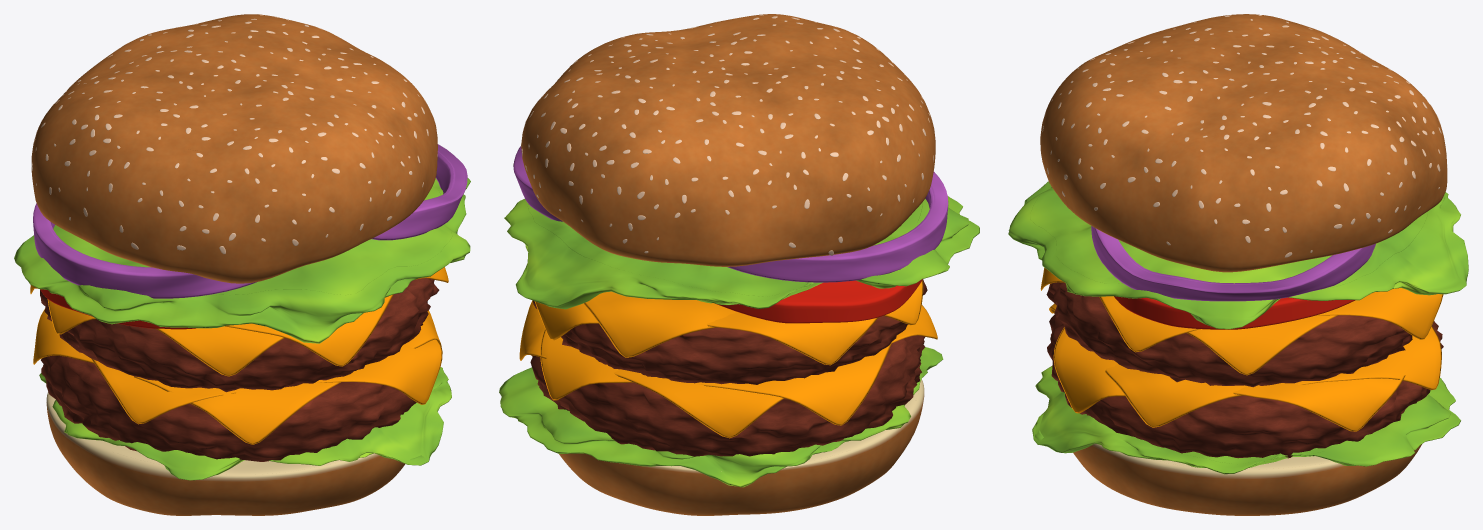
The model's file is burger.glb.
3 renders of one model, left to right at view 1: azimuth 30°, elevation 25°; view 2: azimuth 150°, elevation 25°; view 3: azimuth 270°, elevation 25°, orthographic.
Visible parts, largest first — view 1: topbun, lettuce, bottombun, patty, patty2, cheese, lettuce.001, cheese2, onion2, onion, tomato.001; view 2: topbun, lettuce, patty, bottombun, cheese, cheese2, patty2, lettuce.001, onion2, tomato.001, onion; view 3: topbun, lettuce, cheese, bottombun, patty2, patty, lettuce.001, cheese2, onion, tomato.
Part boxes in pixels (x1,y1,x2,y2): topbun: (31,14,437,283); lettuce: (14,178,470,343); bottombun: (46,392,405,515); patty: (41,355,416,461); patty2: (40,278,439,392); cheese: (33,309,442,444); lettuce.001: (39,367,451,480); cheese2: (30,267,448,376); onion2: (33,203,256,298); onion: (371,144,467,240); tomato.001: (40,289,195,329); topbun: (521,14,935,266); lettuce: (504,164,979,309); patty: (530,335,924,456); bottombun: (559,379,924,515); cheese: (519,300,937,438); cheese2: (534,280,923,365); patty2: (532,279,927,384); lettuce.001: (499,347,943,487); onion2: (727,171,948,282); tomato.001: (715,279,922,323); onion: (513,146,562,221); topbun: (1040,14,1447,272); lettuce: (1008,181,1468,329); cheese: (1049,303,1441,431); bottombun: (1073,443,1421,515); patty2: (1046,282,1412,387); patty: (1047,314,1443,458); lettuce.001: (1032,366,1460,474); cheese2: (1040,267,1443,375); onion: (1091,226,1375,301); tomato: (1114,296,1355,329).
Size of the model in its own units: 3.43 by 2.91 by 3.18.
8 materials, 5 textured.
